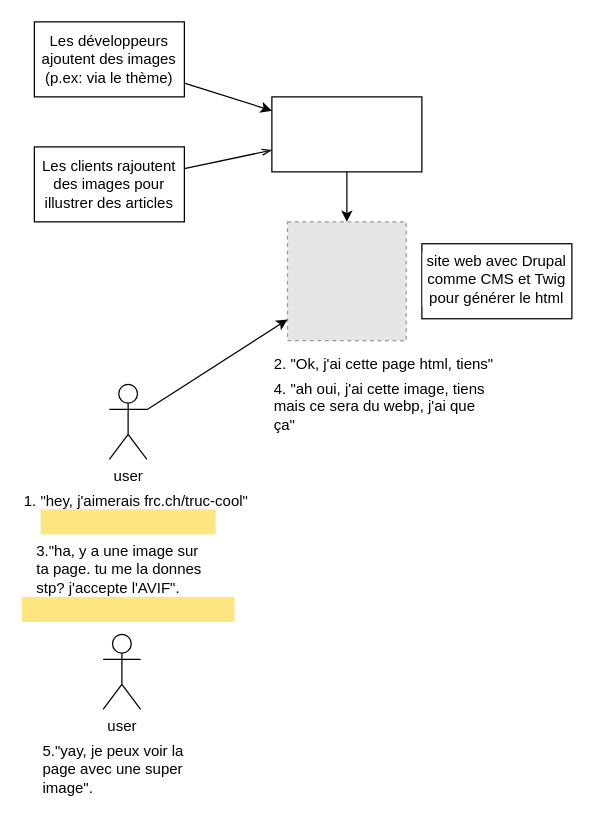
Image size: 594x819. Some labels were removed from this diagram. Grey dashed boxes stand in for pictures. Each missing label, with the box of its shape:
browser insère l'image reçue...: (21, 596, 234, 621)
browser lit le html reçu...: (40, 509, 215, 534)
vercel héberge le site cardis.ch: (271, 96, 422, 172)
